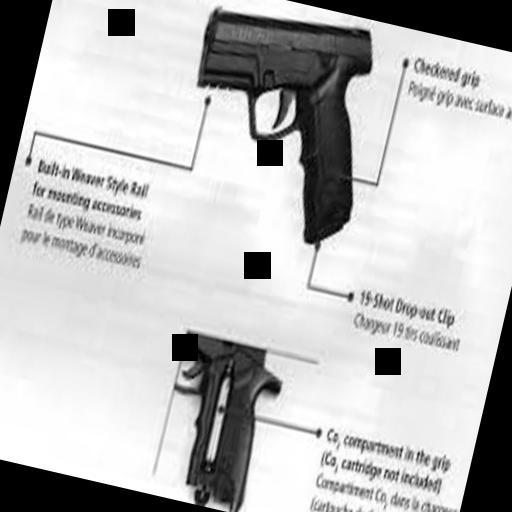Handgun: (159, 0, 404, 261)
